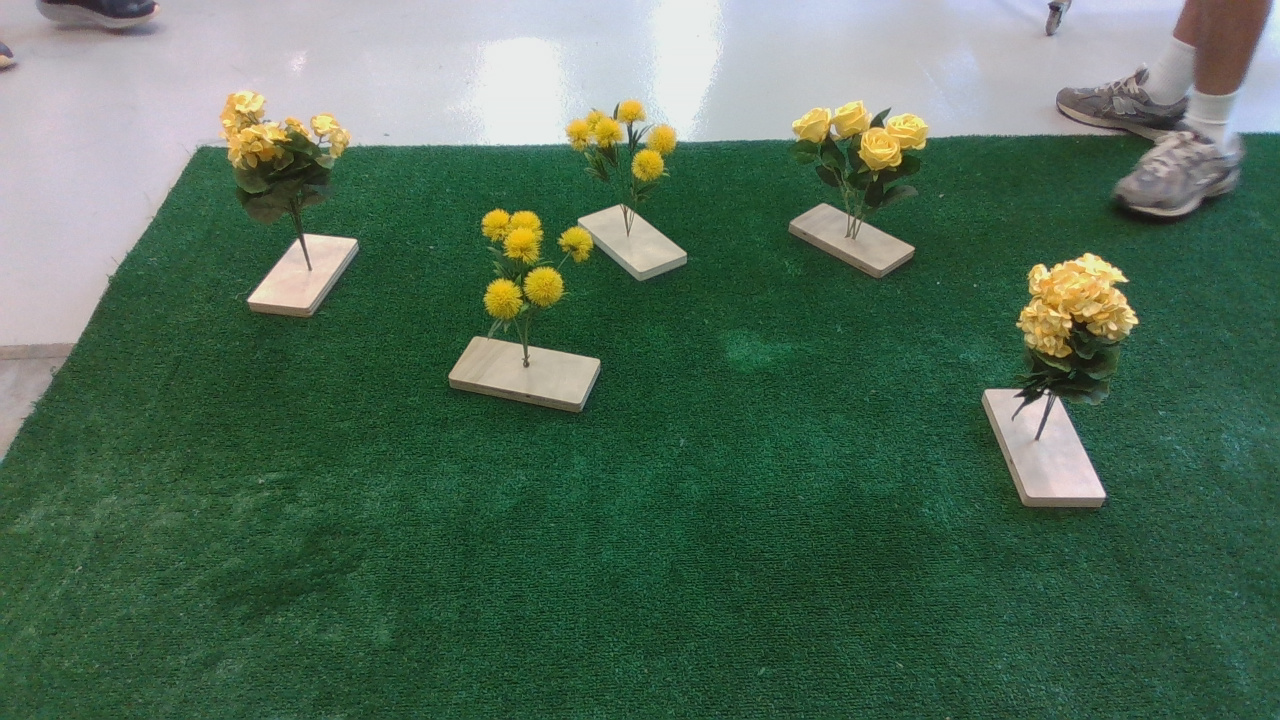dandelion: (472, 213, 599, 337), (554, 103, 697, 191)
geranium: (1013, 244, 1158, 416), (217, 93, 356, 232)
rose: (788, 104, 944, 207)
